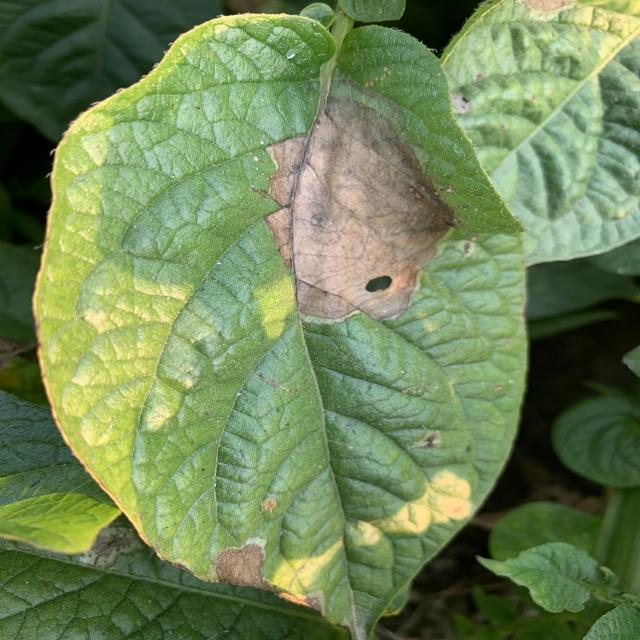lateblight: (265, 95, 453, 320), (213, 538, 323, 612)
